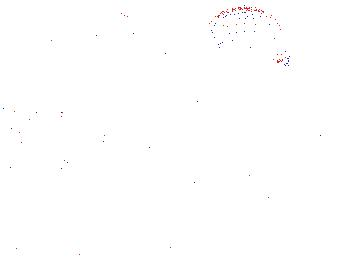moon jellyfish: (21, 42, 127, 114), (196, 8, 293, 71), (93, 18, 183, 58)
